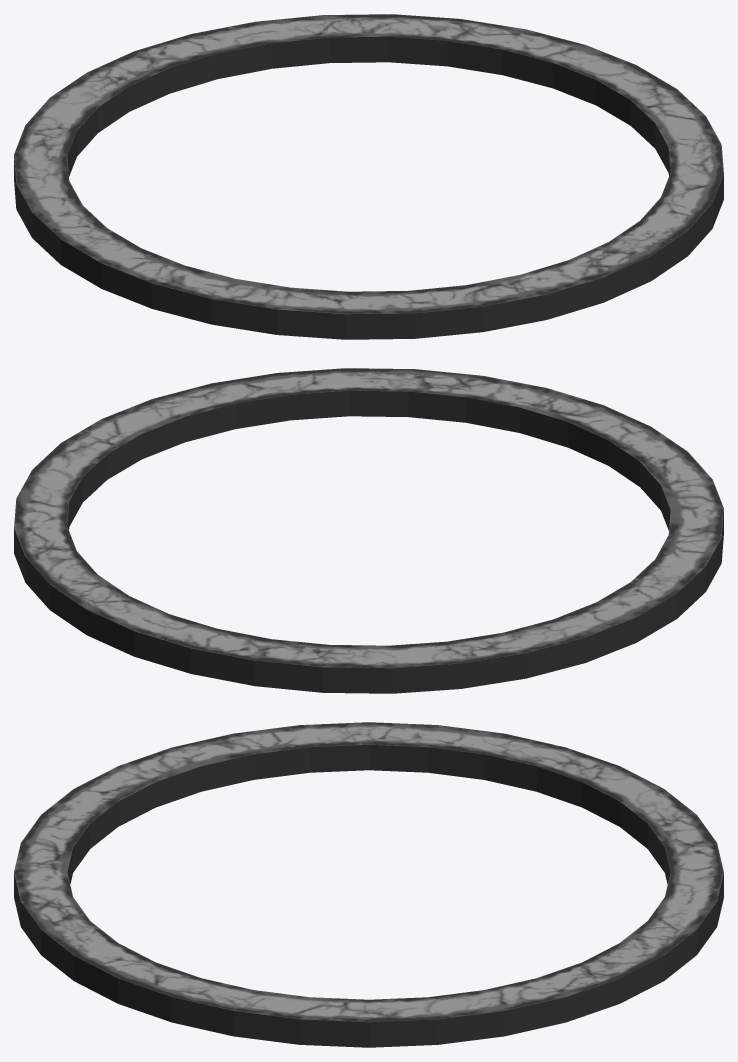
File: 2donut.fbx
3 views of the same model, one above another, from view 1: azimuth 30°, elevation 25°; view 2: azimuth 150°, elevation 25°; view 3: azimuth 270°, elevation 25° (orthographic).
Parts seen in each view (by area): view 1: Cylinder; view 2: Cylinder; view 3: Cylinder.
Boxes of the visible parts, left/top/right/bottom form: Cylinder: left=14, top=14, right=723, bottom=339; Cylinder: left=14, top=368, right=723, bottom=693; Cylinder: left=14, top=722, right=723, bottom=1047.
Bounding box in the file's own units: 6400 × 254 × 6400.
Materials: 1 (1 with a texture image).
